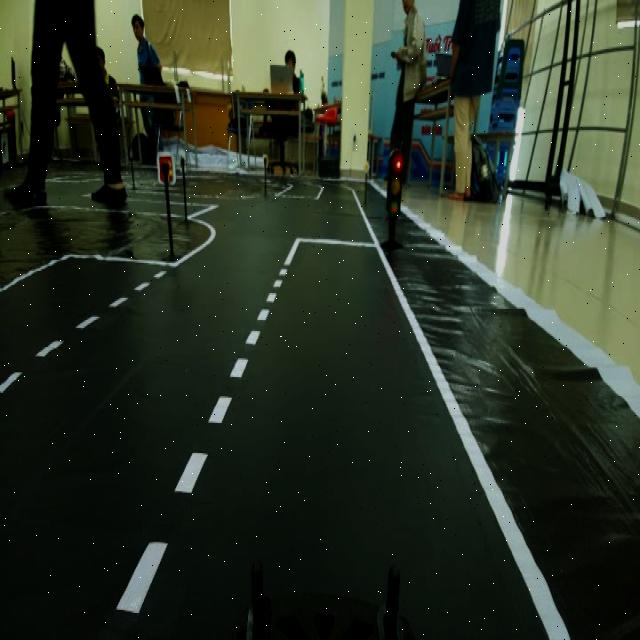trafficlight: (376, 142, 408, 259)
